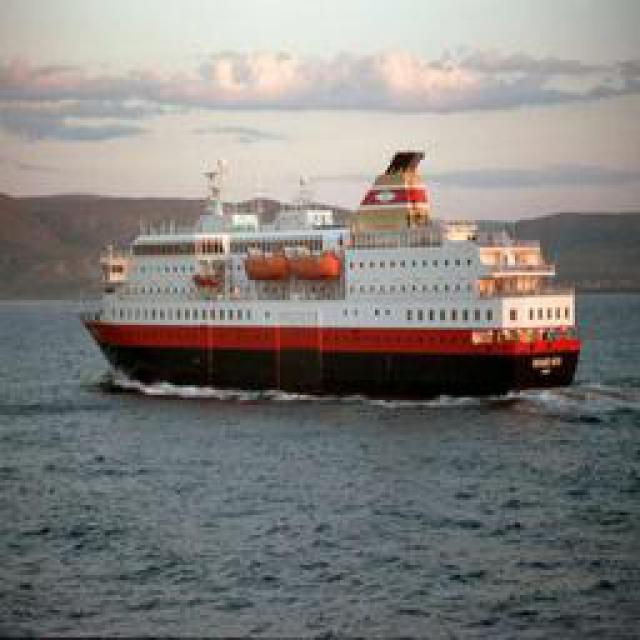Ship: (86, 152, 584, 402)
